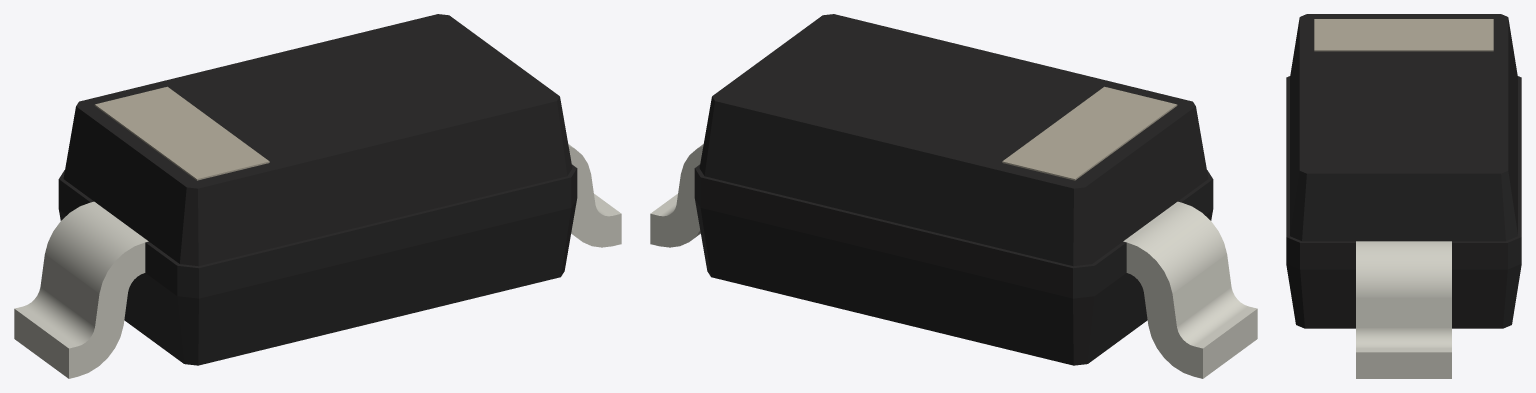
Rendered from D_SOD-123.glb.
The picture shows the model from 3 angles, left to right: view 1: azimuth 30°, elevation 25°; view 2: azimuth 150°, elevation 25°; view 3: azimuth 270°, elevation 25°; orthographic projection. The views are drawn at different scales.
Parts seen in each view (by area): view 1: =>[0:1:1:3]; view 2: =>[0:1:1:3]; view 3: =>[0:1:1:3].
Boxes of the visible parts, x1=… form: =>[0:1:1:3]: x1=14, y1=14, x2=621, y2=378; =>[0:1:1:3]: x1=650, y1=14, x2=1257, y2=378; =>[0:1:1:3]: x1=1286, y1=14, x2=1521, y2=378.
Size of the model in its own units: 0.0038 by 0.00126 by 0.0016.
